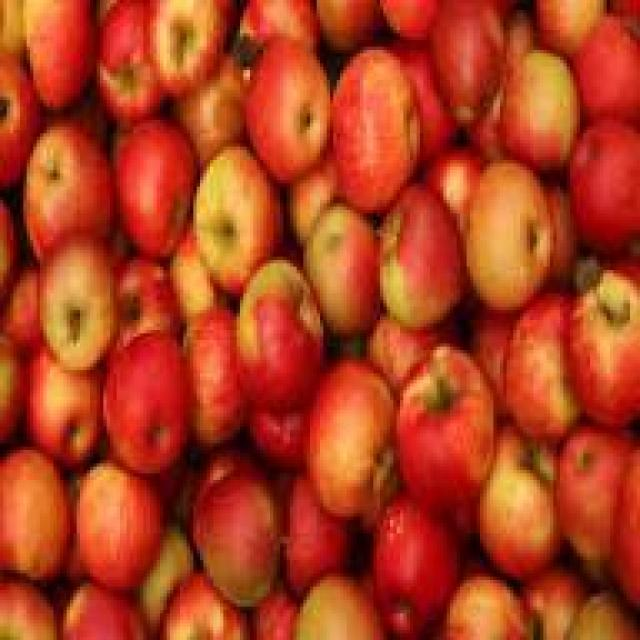apple: (327, 50, 423, 223), (310, 363, 403, 500), (404, 340, 494, 480), (237, 260, 330, 393), (467, 160, 560, 293), (383, 173, 467, 320), (203, 147, 290, 280), (503, 280, 587, 417), (257, 30, 340, 167), (17, 130, 110, 247), (373, 497, 460, 620), (27, 233, 113, 357), (200, 480, 290, 593), (77, 463, 163, 580), (107, 333, 190, 450), (500, 40, 573, 173), (127, 123, 203, 247), (7, 447, 70, 570)
